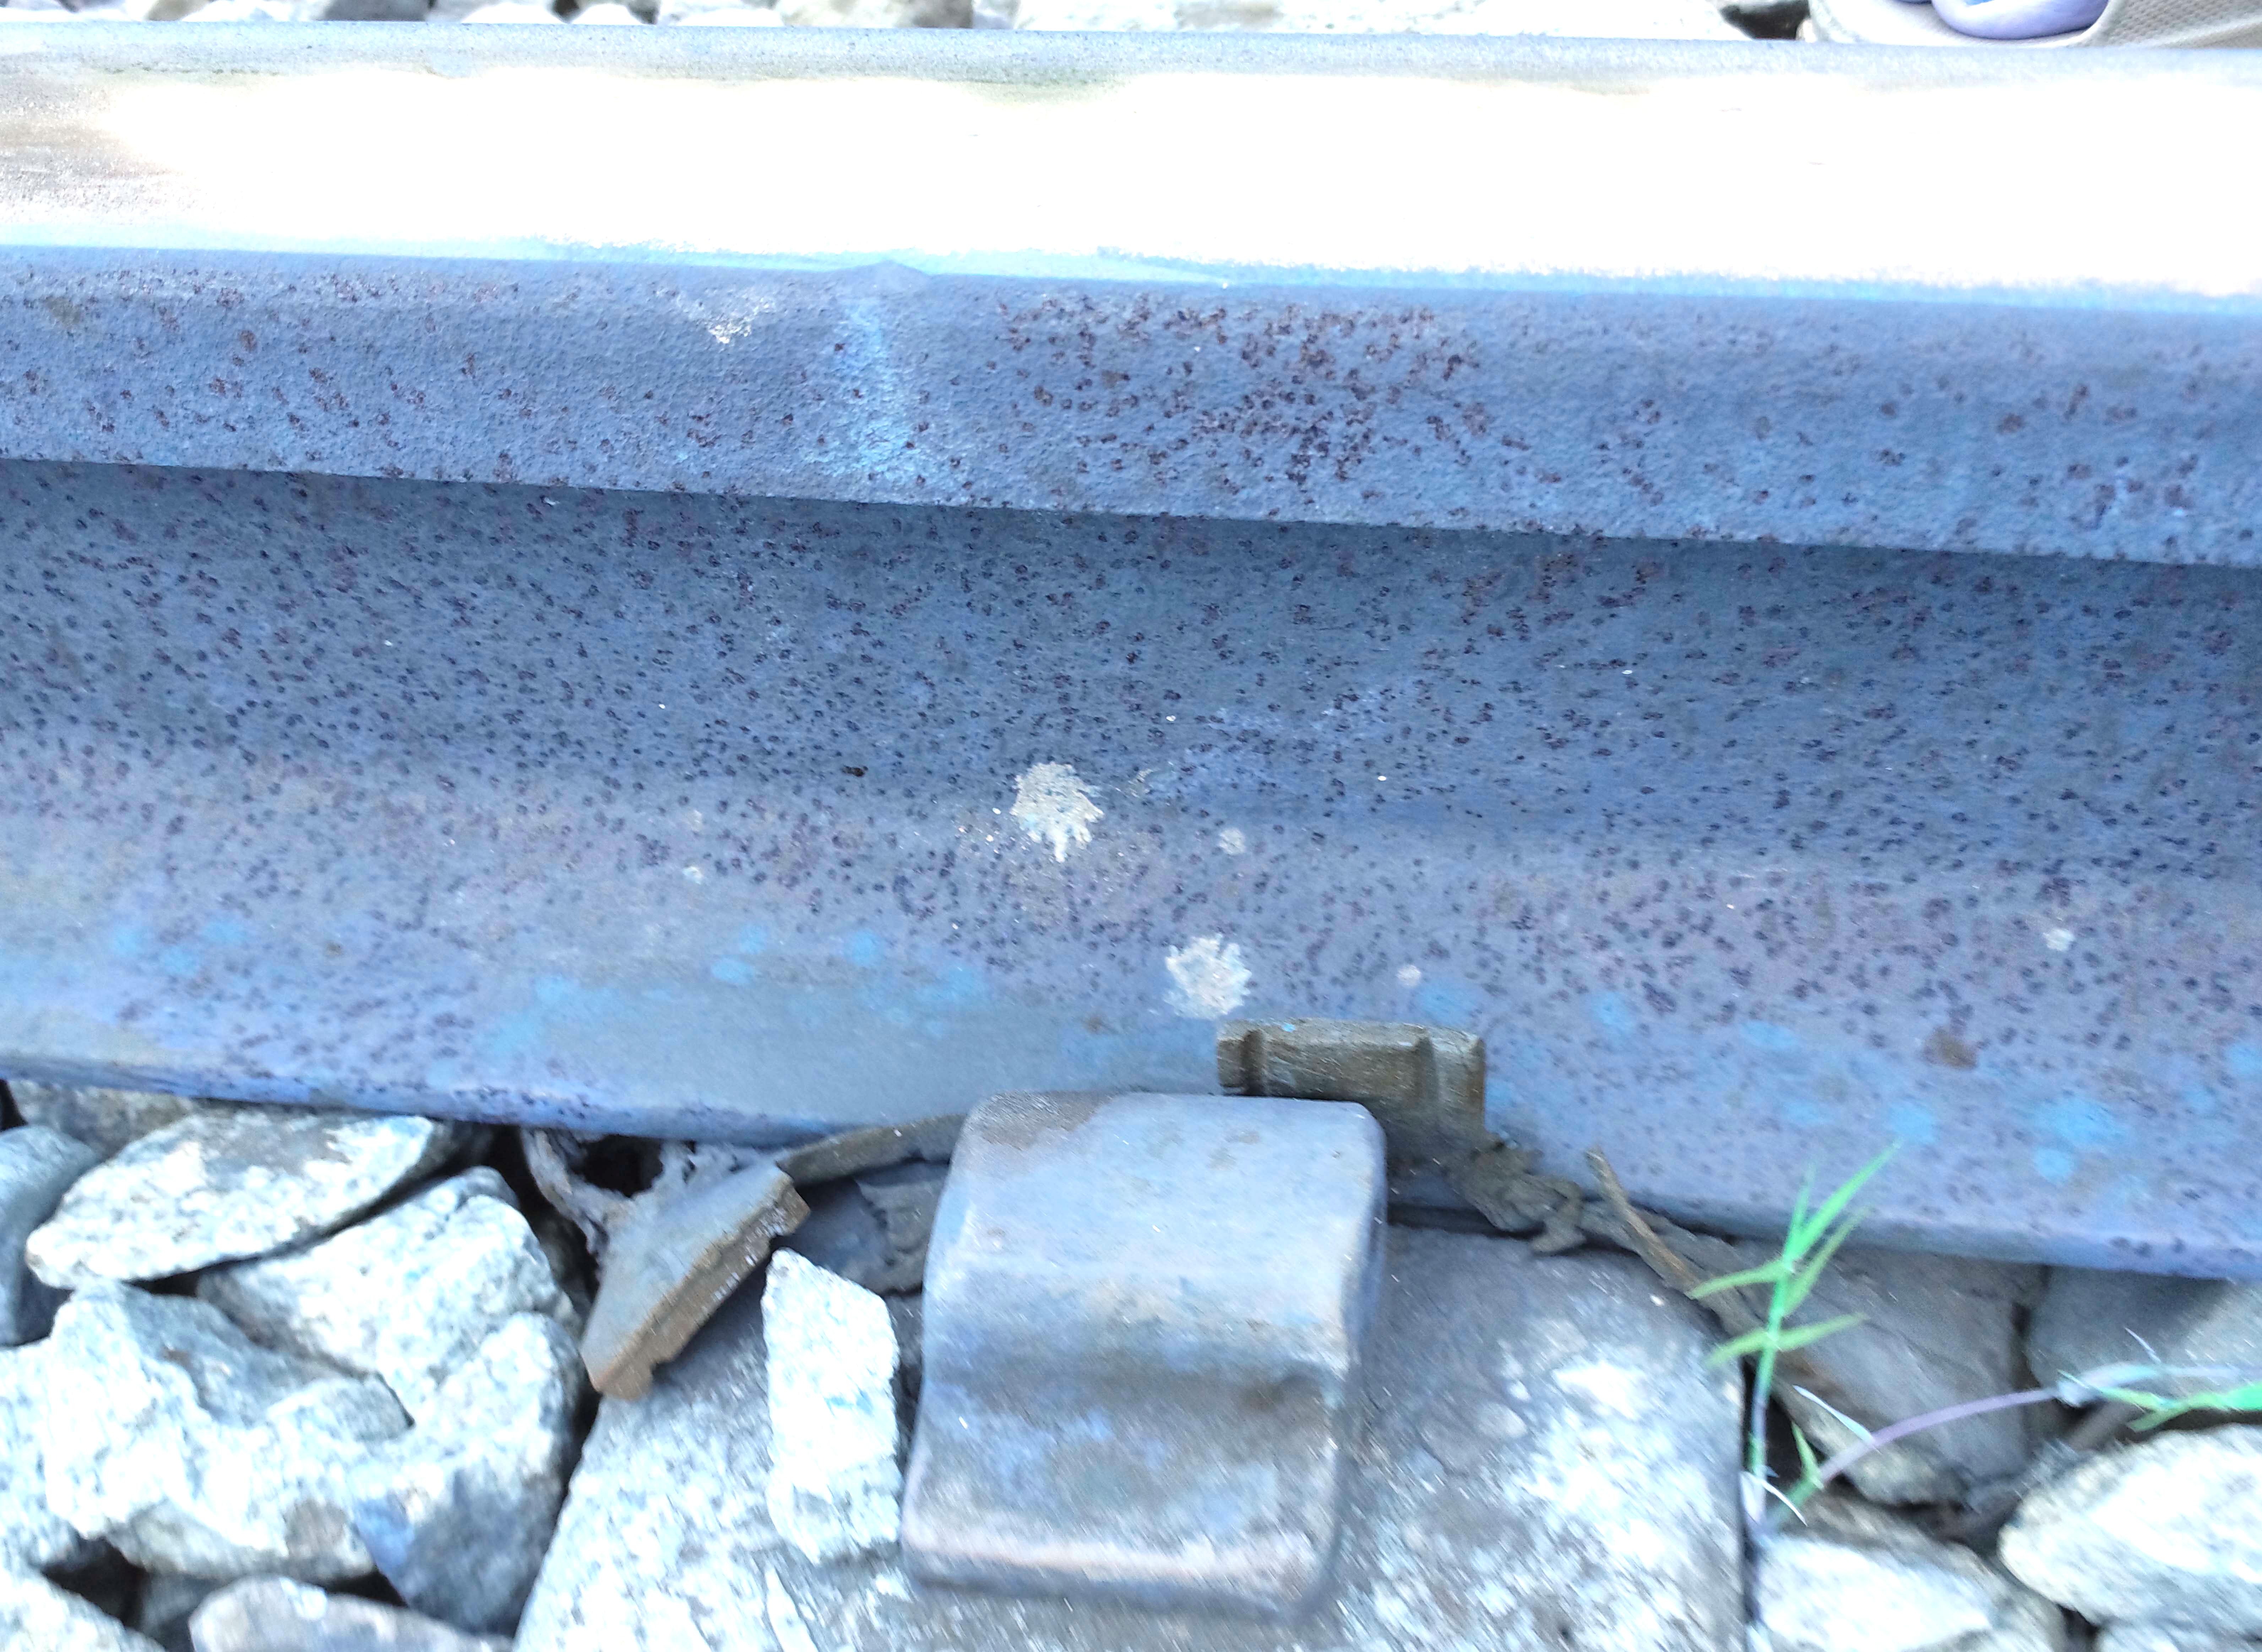error1: (857, 1024, 1472, 1619)
